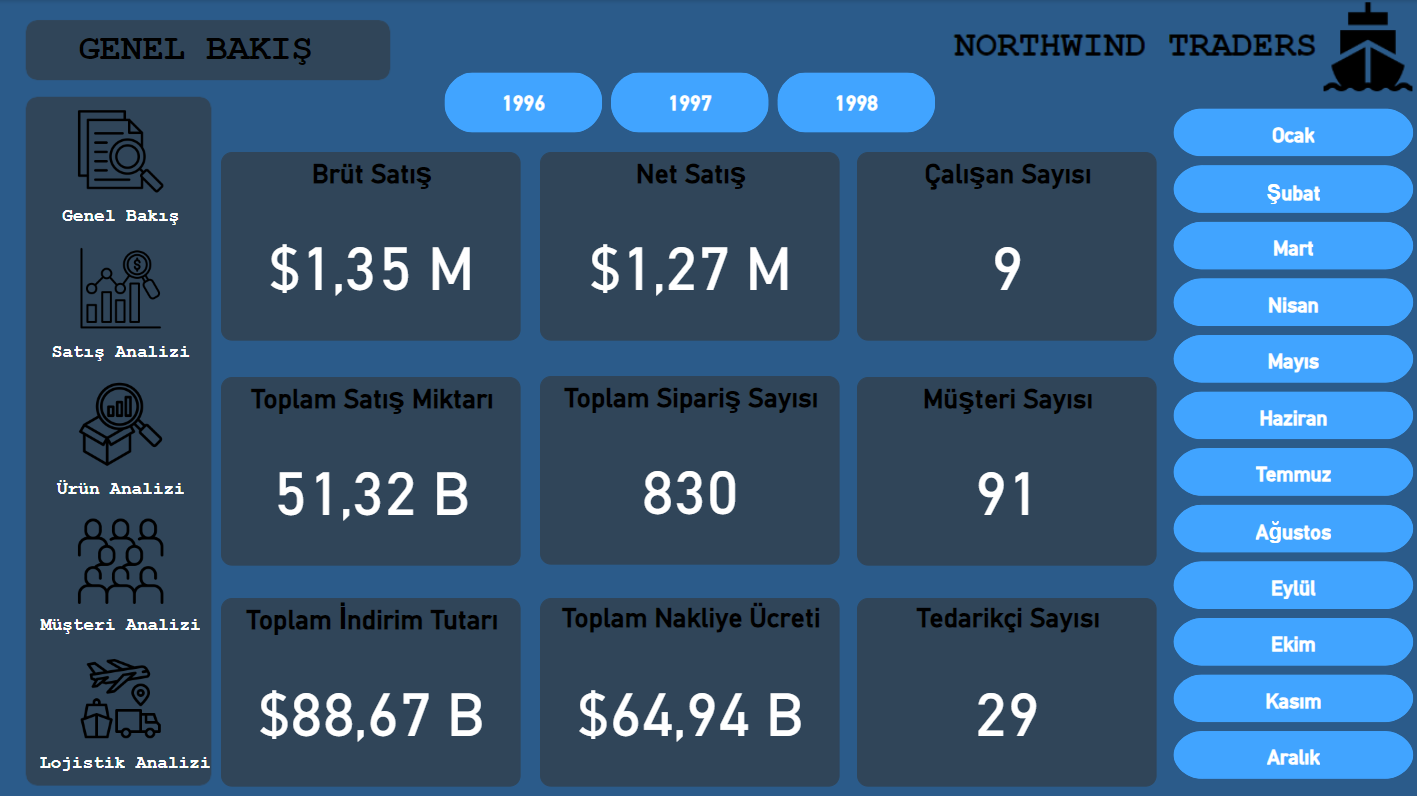

The dashboard page shown, as its layout file describes it:
{"tool":"powerbi","page":{"name":"GENEL BAKIŞ","canvas":[1280,720],"ordinal":0},"visuals":[{"type":"textbox","box":[37,21,282,54],"z":0},{"type":"image","box":[27,586,167,87],"z":1000},{"type":"image","box":[27,462,167,87],"z":2000},{"type":"image","box":[27,216,167,87],"z":3000},{"type":"image","box":[27,93,167,87],"z":4000},{"type":"image","box":[27,339,167,87],"z":5000},{"type":"textbox","box":[27,673,175,36],"z":6000},{"type":"textbox","box":[27,549,167,36],"z":7000},{"type":"textbox","box":[27,426,167,36],"z":8000},{"type":"textbox","box":[27,303,167,36],"z":9000},{"type":"textbox","box":[27,180,167,36],"z":10000},{"type":"card","title":"Brüt Satış","fields":{"Values":["Hesaplamalar.Brüt Satış"]},"box":[201.3,136.6,270.4,170.2],"z":11000},{"type":"card","title":"Net Satış","fields":{"Values":["Hesaplamalar.Net Satış"]},"box":[488.6,136.6,270.4,170.2],"z":12000},{"type":"card","title":"Çalışan Sayısı","fields":{"Values":["Hesaplamalar.Çalışan Sayısı"]},"box":[774.1,136.6,270.4,170.2],"z":13000},{"type":"card","title":"Toplam Satış Miktarı","fields":{"Values":["Hesaplamalar(Dax).Toplam Satış Miktarı"]},"box":[201.3,339.6,270.4,170.2],"z":14000},{"type":"card","title":"Toplam Sipariş Sayısı","fields":{"Values":["Hesaplamalar(Dax).Toplam Sipariş Sayısı"]},"box":[488.6,338.7,270.4,170.2],"z":15000},{"type":"card","title":"Müşteri Sayısı","fields":{"Values":["Hesaplamalar(Dax).Toplam Müşteri Sayısı"]},"box":[774.1,339.6,270.4,170.2],"z":16000},{"type":"card","title":"Toplam İndirim Tutarı","fields":{"Values":["Hesaplamalar(Dax).Toplam İndirim Tutarı"]},"box":[201.3,539.1,270.4,170.2],"z":17000},{"type":"card","title":"Toplam Nakliye Ücreti","fields":{"Values":["Hesaplamalar(Dax).Toplam Nakliye Ücreti"]},"box":[488.6,539.1,270.4,170.2],"z":18000},{"type":"card","title":"Tedarikçi Sayısı","fields":{"Values":["Hesaplamalar(Dax).Tedarikçi Sayısı"]},"box":[774.1,539.1,270.4,170.2],"z":19000},{"type":"advancedSlicerVisual","fields":{"Values":["orders.order_date.Varyasyon.Tarih Hiyerarşisi.Yıl"]},"box":[397.2,60.3,453.1,64.7],"z":20000},{"type":"advancedSlicerVisual","fields":{"Values":["orders.order_date.Varyasyon.Tarih Hiyerarşisi.Ay"]},"box":[1054.3,93.1,226.1,616.3],"z":21000}]}

Visuals, with their boxes in screenshot pixels (x1, y1, x2, y2), scaled from the page's 1280x720 canvas onto the 1417x796 screenshot:
textbox: [left=41, top=23, right=353, bottom=83]
image: [left=30, top=648, right=215, bottom=744]
image: [left=30, top=511, right=215, bottom=607]
image: [left=30, top=239, right=215, bottom=335]
image: [left=30, top=103, right=215, bottom=199]
image: [left=30, top=375, right=215, bottom=471]
textbox: [left=30, top=744, right=224, bottom=784]
textbox: [left=30, top=607, right=215, bottom=647]
textbox: [left=30, top=471, right=215, bottom=511]
textbox: [left=30, top=335, right=215, bottom=375]
textbox: [left=30, top=199, right=215, bottom=239]
"Brüt Satış" card: [left=223, top=151, right=522, bottom=339]
"Net Satış" card: [left=541, top=151, right=840, bottom=339]
"Çalışan Sayısı" card: [left=857, top=151, right=1156, bottom=339]
"Toplam Satış Miktarı" card: [left=223, top=375, right=522, bottom=564]
"Toplam Sipariş Sayısı" card: [left=541, top=374, right=840, bottom=563]
"Müşteri Sayısı" card: [left=857, top=375, right=1156, bottom=564]
"Toplam İndirim Tutarı" card: [left=223, top=596, right=522, bottom=784]
"Toplam Nakliye Ücreti" card: [left=541, top=596, right=840, bottom=784]
"Tedarikçi Sayısı" card: [left=857, top=596, right=1156, bottom=784]
advancedSlicerVisual - orders.order_date.Varyasyon.Tarih Hiyerarşisi.Yıl: [left=440, top=67, right=941, bottom=138]
advancedSlicerVisual - orders.order_date.Varyasyon.Tarih Hiyerarşisi.Ay: [left=1167, top=103, right=1416, bottom=784]
